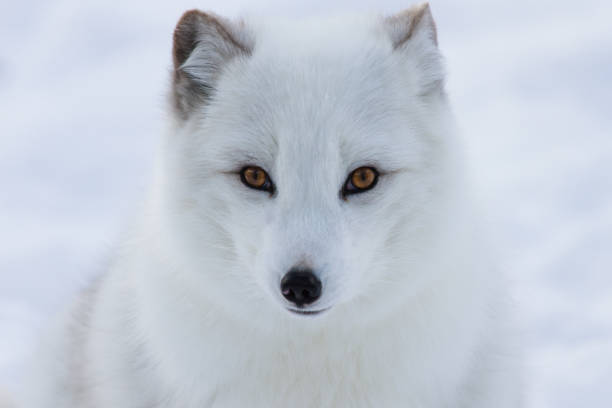arcticfox: (192, 39, 403, 337)
